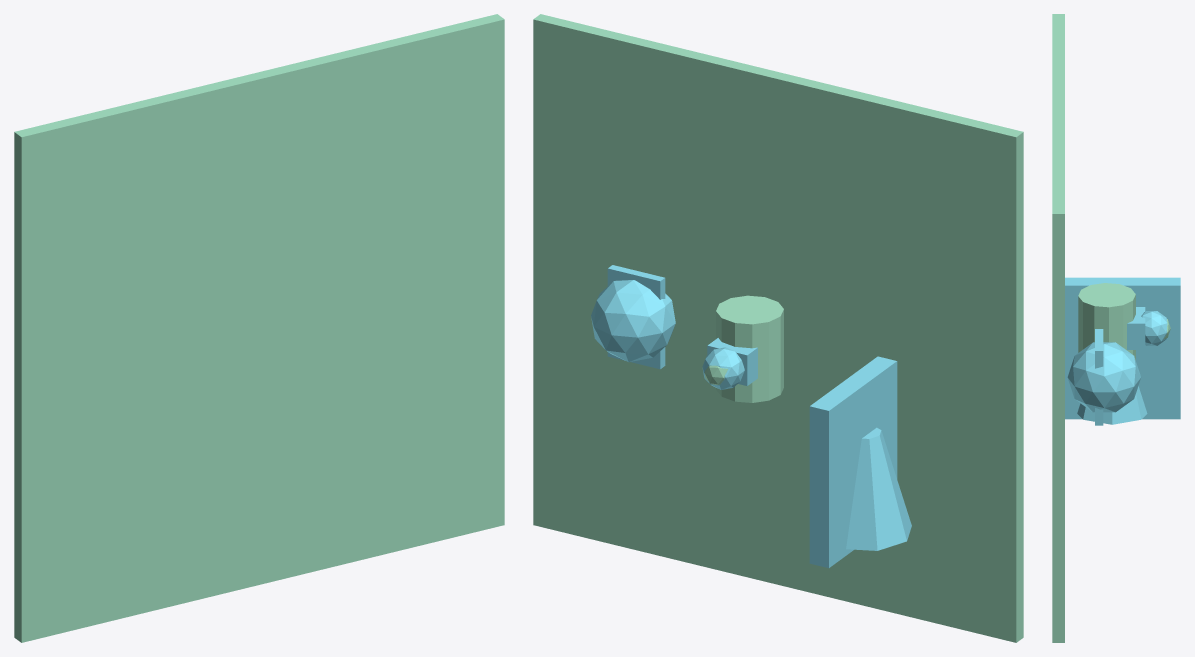
Rendered from cafe-empire-kit.glb.
3 views of the same model, side by side, from view 1: azimuth 30°, elevation 25°; view 2: azimuth 150°, elevation 25°; view 3: azimuth 270°, elevation 25° (orthographic). The views are drawn at different scales.
Parts seen in each view (by area): view 1: ENVIRONMENT_GROUND; view 2: ENVIRONMENT_GROUND, ENVIRONMENT_PANEL, PROFILE_ENVIRONMENT_DETAIL, OBSTACLE, PLAYER_BODY, PROFILE_OBSTACLE_DETAIL, PLAYER_CORE, PROFILE_PLAYER_DETAIL; view 3: ENVIRONMENT_GROUND, ENVIRONMENT_PANEL, OBSTACLE, PLAYER_BODY, PROFILE_ENVIRONMENT_DETAIL, PLAYER_CORE, PROFILE_PLAYER_DETAIL, PROFILE_OBSTACLE_DETAIL.
Part boxes in pixels (bbox=[...]): ENVIRONMENT_GROUND: bbox=[14, 14, 504, 642]; ENVIRONMENT_GROUND: bbox=[533, 14, 1023, 642]; ENVIRONMENT_PANEL: bbox=[809, 356, 897, 568]; PROFILE_ENVIRONMENT_DETAIL: bbox=[846, 427, 911, 550]; OBSTACLE: bbox=[591, 280, 675, 362]; PLAYER_BODY: bbox=[716, 295, 783, 402]; PROFILE_OBSTACLE_DETAIL: bbox=[607, 265, 665, 369]; PLAYER_CORE: bbox=[702, 347, 744, 389]; PROFILE_PLAYER_DETAIL: bbox=[707, 338, 757, 385]; ENVIRONMENT_GROUND: bbox=[1052, 14, 1064, 642]; ENVIRONMENT_PANEL: bbox=[1065, 277, 1180, 419]; OBSTACLE: bbox=[1067, 342, 1140, 412]; PLAYER_BODY: bbox=[1078, 283, 1135, 360]; PROFILE_ENVIRONMENT_DETAIL: bbox=[1077, 386, 1147, 424]; PLAYER_CORE: bbox=[1141, 311, 1167, 345]; PROFILE_PLAYER_DETAIL: bbox=[1127, 307, 1145, 349]; PROFILE_OBSTACLE_DETAIL: bbox=[1095, 329, 1103, 425].
Bounding box in the file's own units: 9 × 9 × 2.44.
